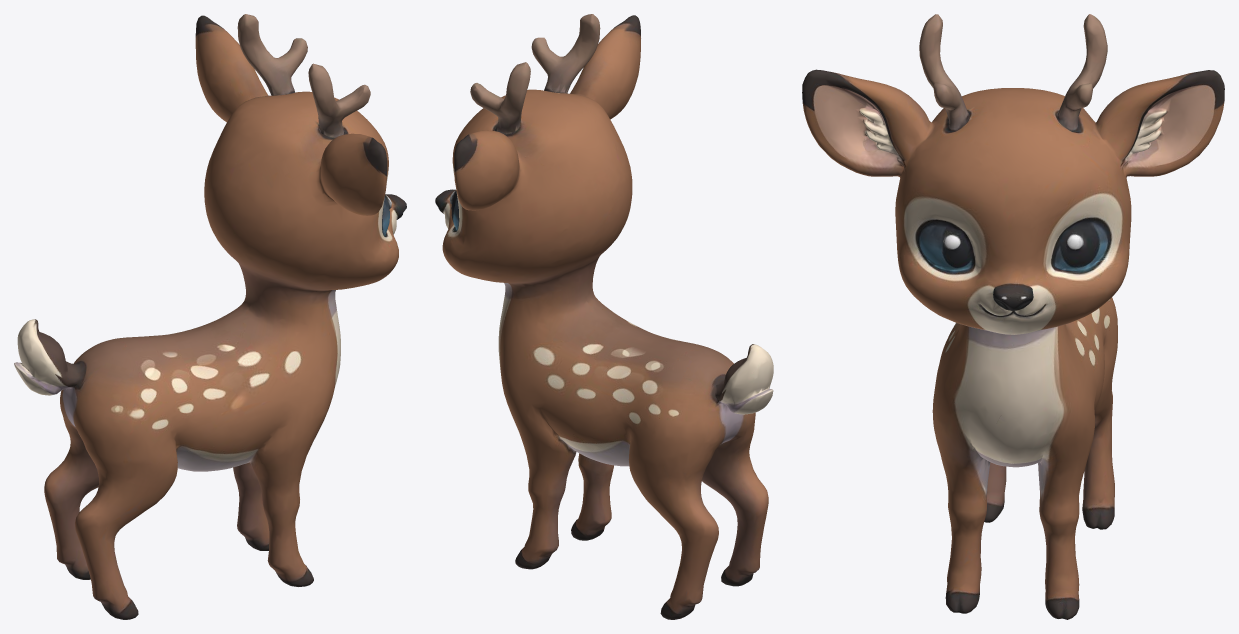
File: common_deer.glb
3 renders of one model, left to right at view 1: azimuth 30°, elevation 25°; view 2: azimuth 150°, elevation 25°; view 3: azimuth 270°, elevation 25°, orthographic. The views are drawn at different scales.
Visible parts, largest first — view 1: tripo_node_35eacd8c-804c-4961-881a-8f69db033b87; view 2: tripo_node_35eacd8c-804c-4961-881a-8f69db033b87; view 3: tripo_node_35eacd8c-804c-4961-881a-8f69db033b87.
Boxes of the visible parts, x1,y1,x2,y2 form: tripo_node_35eacd8c-804c-4961-881a-8f69db033b87: (14, 14, 406, 619); tripo_node_35eacd8c-804c-4961-881a-8f69db033b87: (435, 14, 773, 619); tripo_node_35eacd8c-804c-4961-881a-8f69db033b87: (802, 14, 1224, 619).
Bounding box in the file's own units: 0.7186 × 1 × 0.6407.
1 material, 1 textured.
